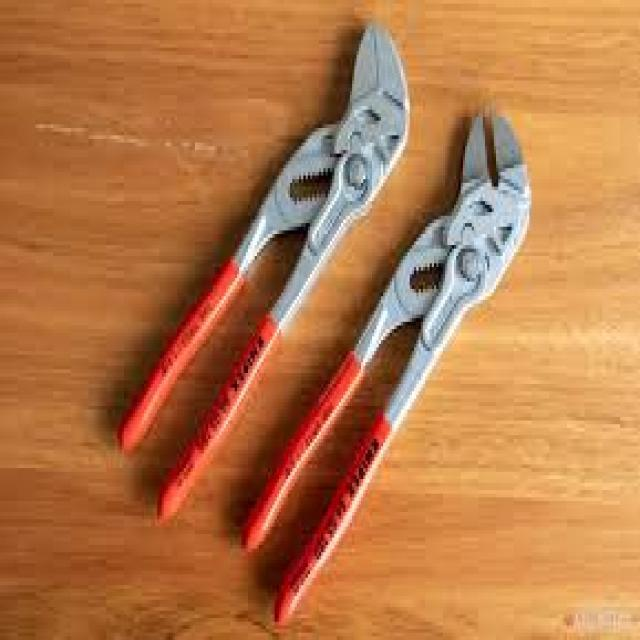pliers: (232, 104, 538, 632), (112, 11, 416, 528)
